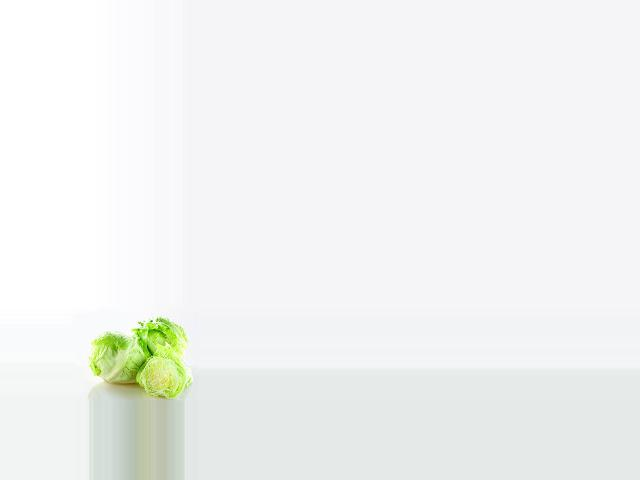lettuce: (129, 312, 189, 361)
